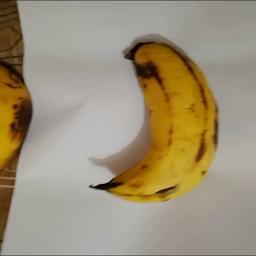Banana Unripe: (96, 39, 220, 203)
